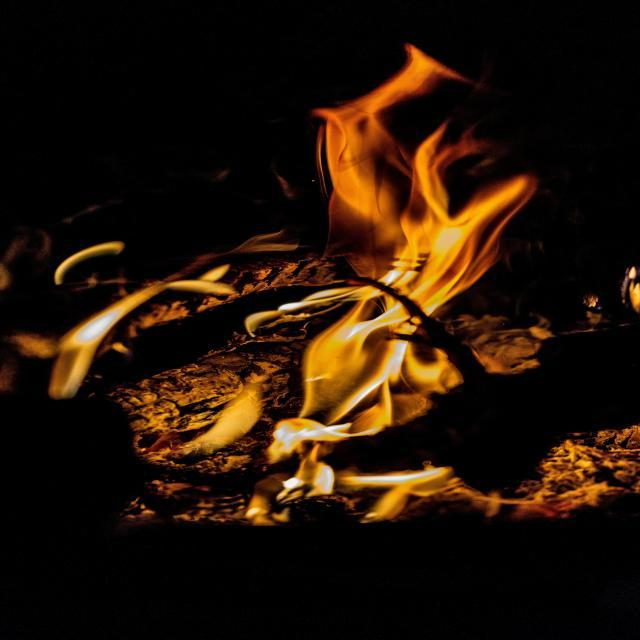Fire: (44, 44, 640, 528)
